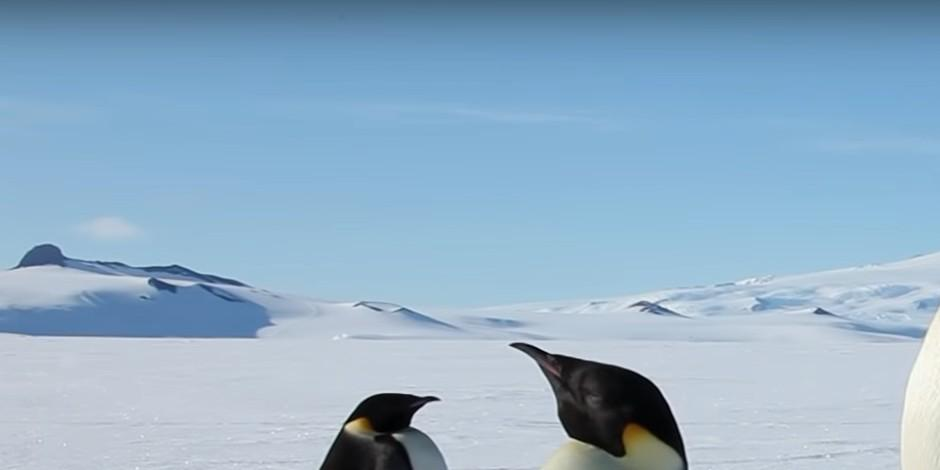Emperor Penguin: (473, 332, 764, 470), (888, 143, 940, 470), (300, 382, 457, 470)
